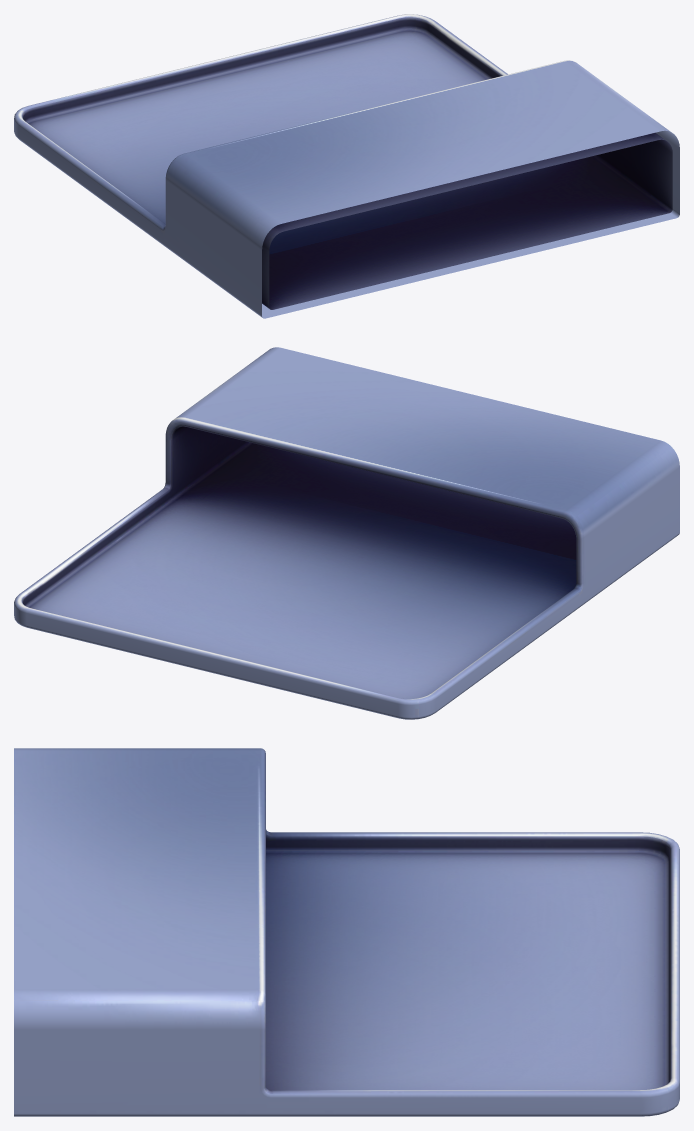
Rendered from Spawner.fbx.
3 renders of one model, top to bottom at view 1: azimuth 30°, elevation 25°; view 2: azimuth 150°, elevation 25°; view 3: azimuth 270°, elevation 25°, orthographic. The views are drawn at different scales.
Parts seen in each view (by area): view 1: Spawner; view 2: Spawner; view 3: Spawner.
Part boxes in pixels (left/top/right/bottom): Spawner: left=14, top=14, right=679, bottom=318; Spawner: left=14, top=347, right=679, bottom=719; Spawner: left=14, top=748, right=679, bottom=1116.
Bounding box in the file's own units: 592 × 123 × 635.
